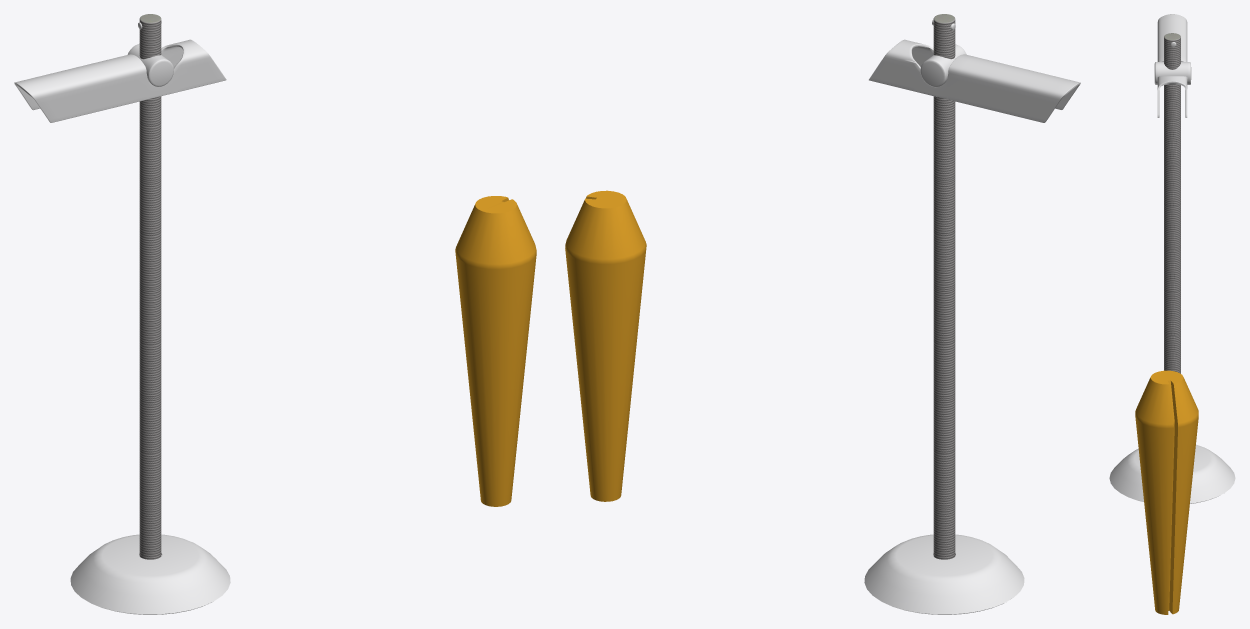
Rendered from Toggle_Membrane.fbx.
The picture shows the model from 3 angles, left to right: view 1: azimuth 30°, elevation 25°; view 2: azimuth 150°, elevation 25°; view 3: azimuth 270°, elevation 25°; orthographic projection. The views are drawn at different scales.
Visible parts, largest first — view 1: Asset_3, Asset_4; view 2: Asset_3, Asset_4; view 3: Asset_4, Asset_3.
Part boxes in pixels (x1=…): Asset_3: x1=14, y1=14, x2=230, y2=614; Asset_4: x1=455, y1=196, x2=536, y2=506; Asset_3: x1=864, y1=14, x2=1080, y2=614; Asset_4: x1=565, y1=190, x2=646, y2=501; Asset_4: x1=1135, y1=370, x2=1198, y2=614; Asset_3: x1=1109, y1=14, x2=1235, y2=503.
Bounding box in the file's own units: 75.77 × 80.29 × 20.71.
4 materials, 2 textured.
